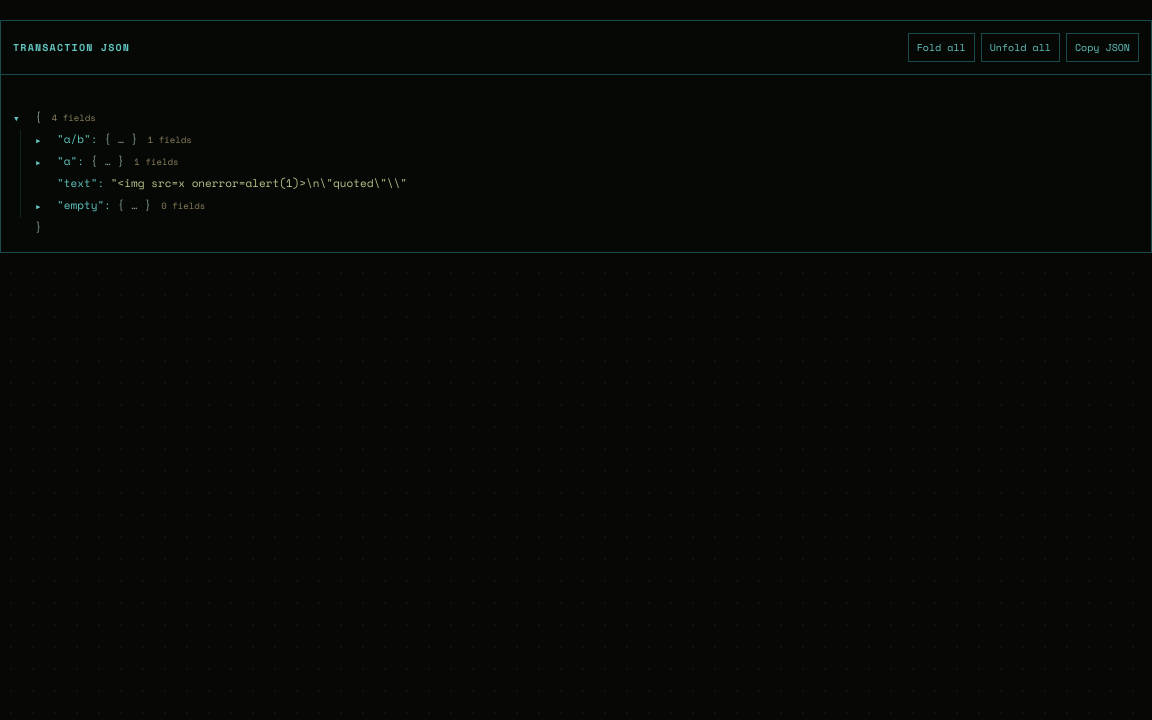
Test: transaction JSON explorer › renders hostile-looking strings as text and keeps escaped paths independent
Step 1. Click the button "▸" next to "\"a/b\":" → (46, 141), box [35,130,57,152]
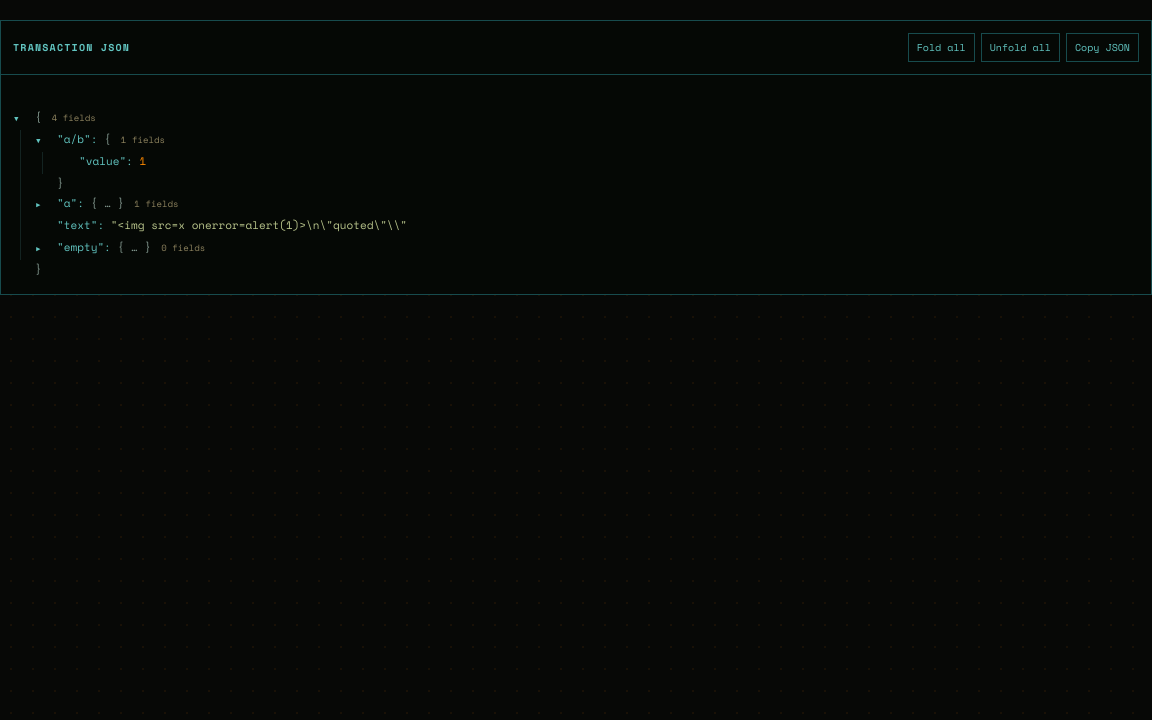
Step 2. Click the button "▸" next to "\"a\":" → (46, 205), box [35,194,57,216]
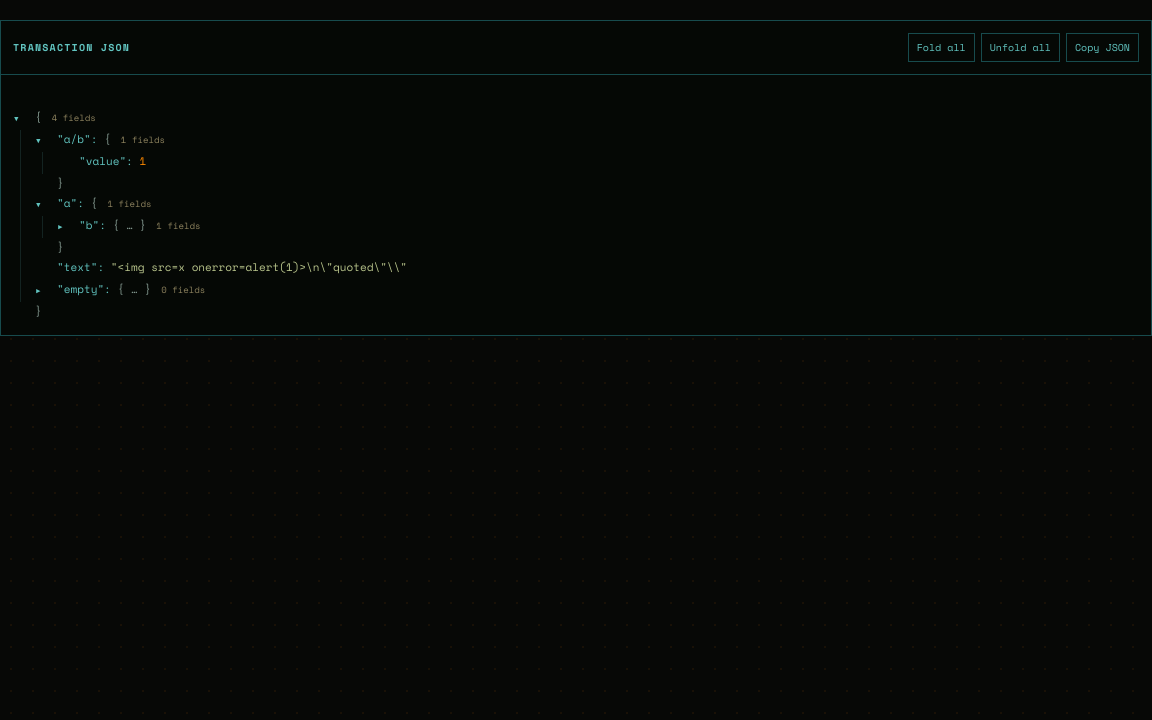
Expected: the button "▸" next to "\"b\":" is shown, [57,216,79,238]
Step 3. Click the button "▸" next to "\"empty\":" → (46, 291), box [35,280,57,302]
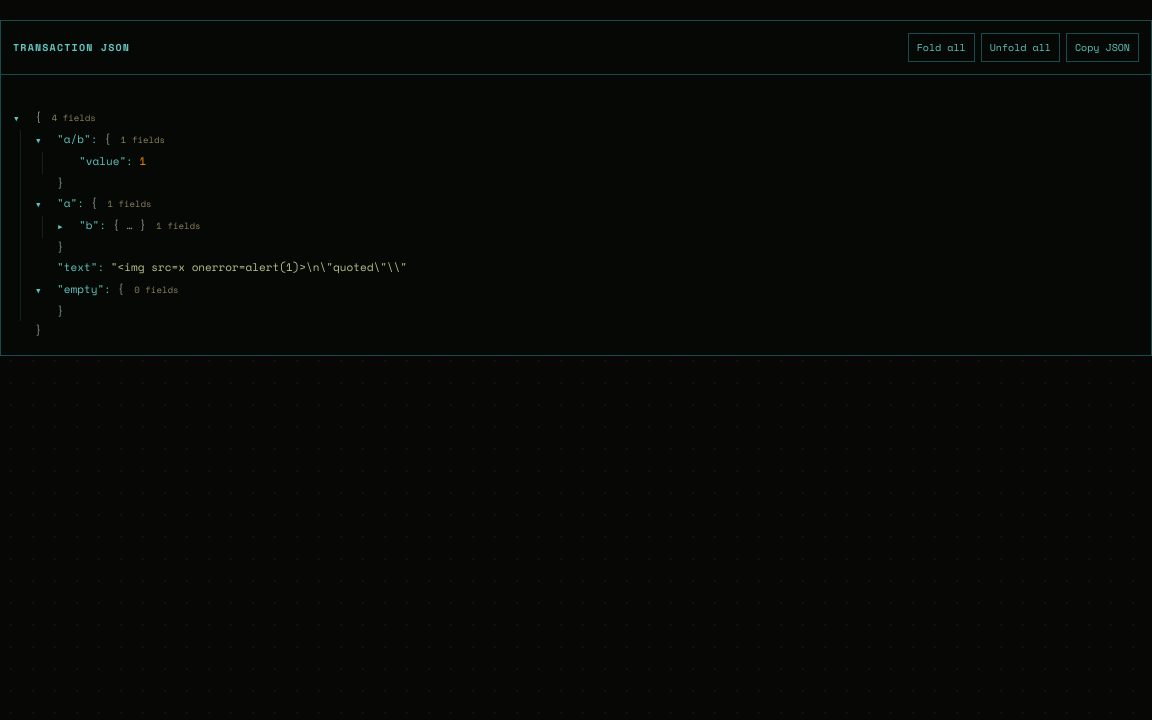
Result: the button "▾" next to "\"empty\":" is expanded at [35,280,57,302]
